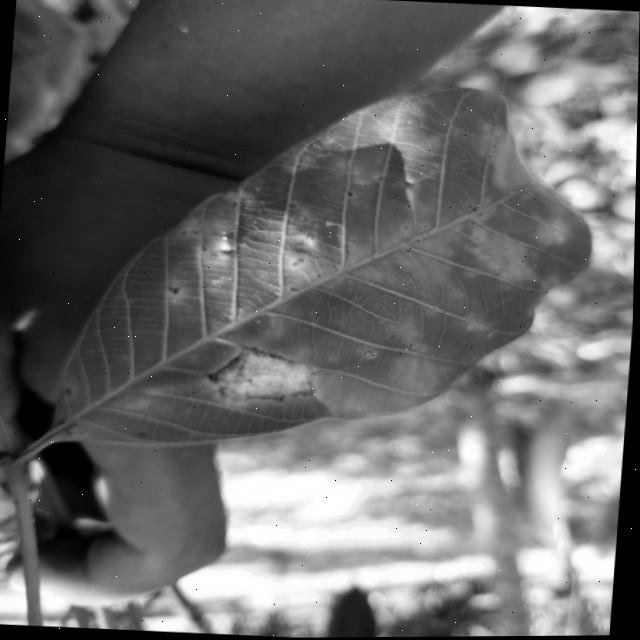Colletotrichum: (410, 345, 420, 354), (367, 351, 375, 358)
Leaf-Blight: (209, 346, 319, 408)
